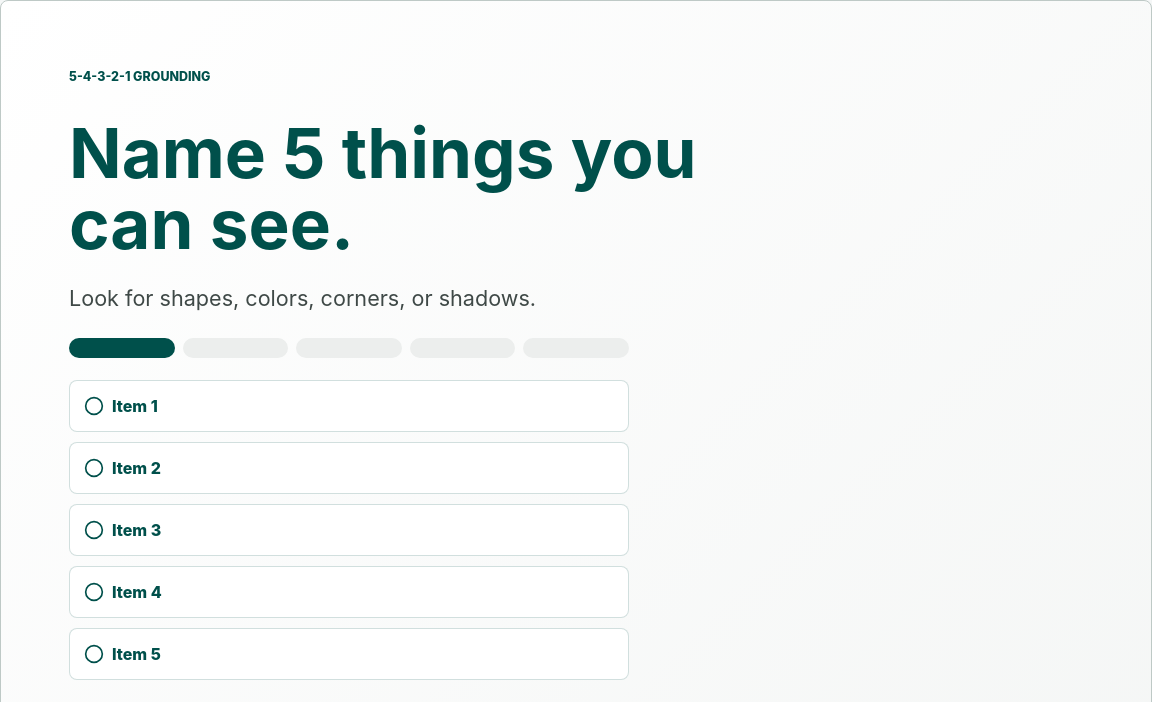
Test: GroundingTool › advances only after the current grounding step is complete
The image size is (1152, 702).
Expected: the heading "Name 5 things you can see." is shown, x1=69 y1=111 x2=696 y2=266
Step 1. Click the button "Item 1" → (131, 406), box x1=69 y1=380 x2=629 y2=432
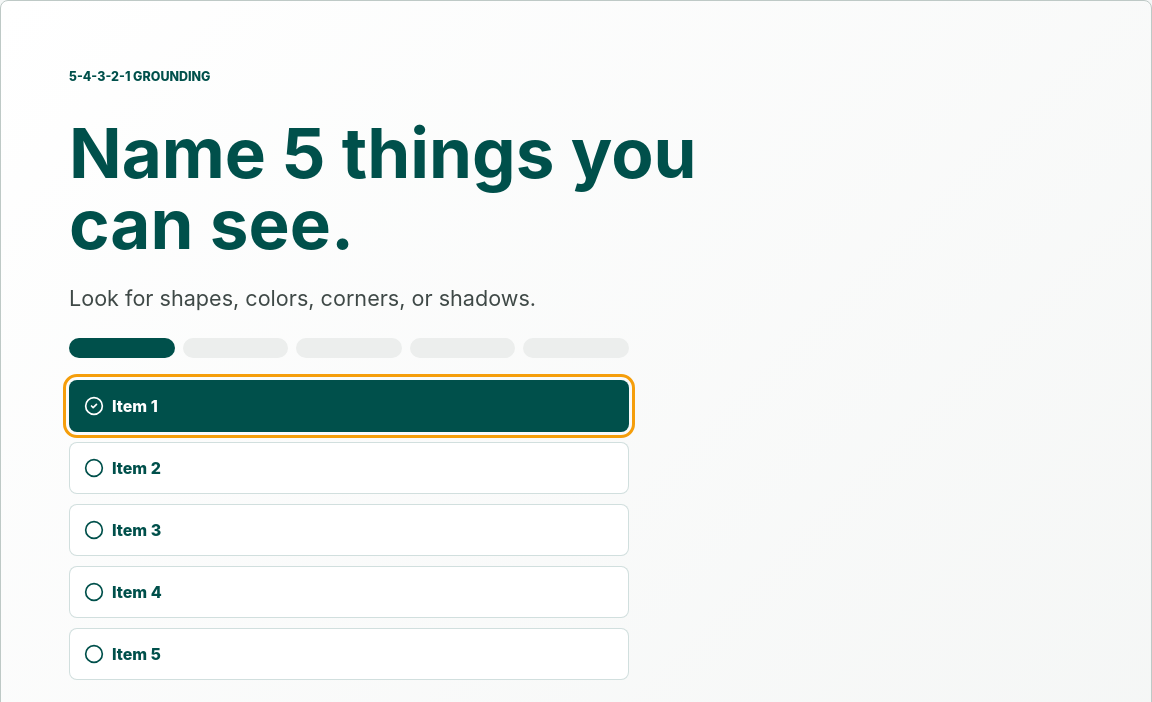
Expected: the heading "Name 5 things you can see." is shown, x1=69 y1=111 x2=696 y2=266
Step 2. Click the button "Item 2" → (131, 468), box x1=69 y1=442 x2=629 y2=494
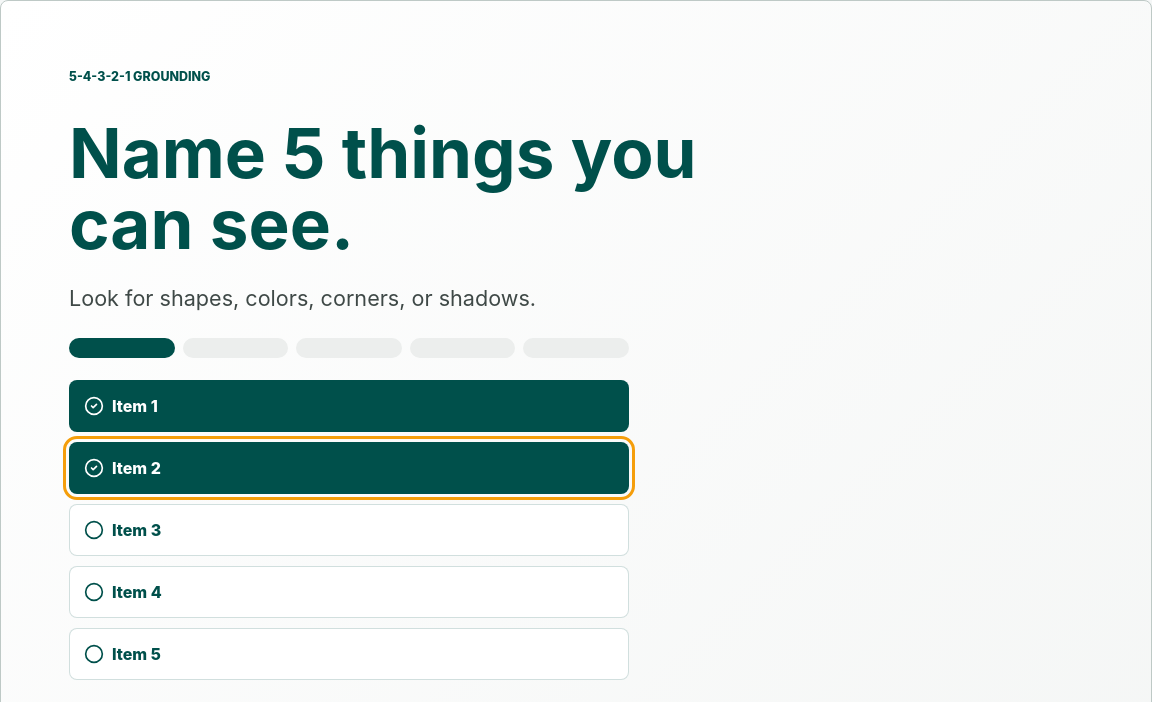
Step 3. Click the button "Item 3" → (131, 530), box x1=69 y1=504 x2=629 y2=556
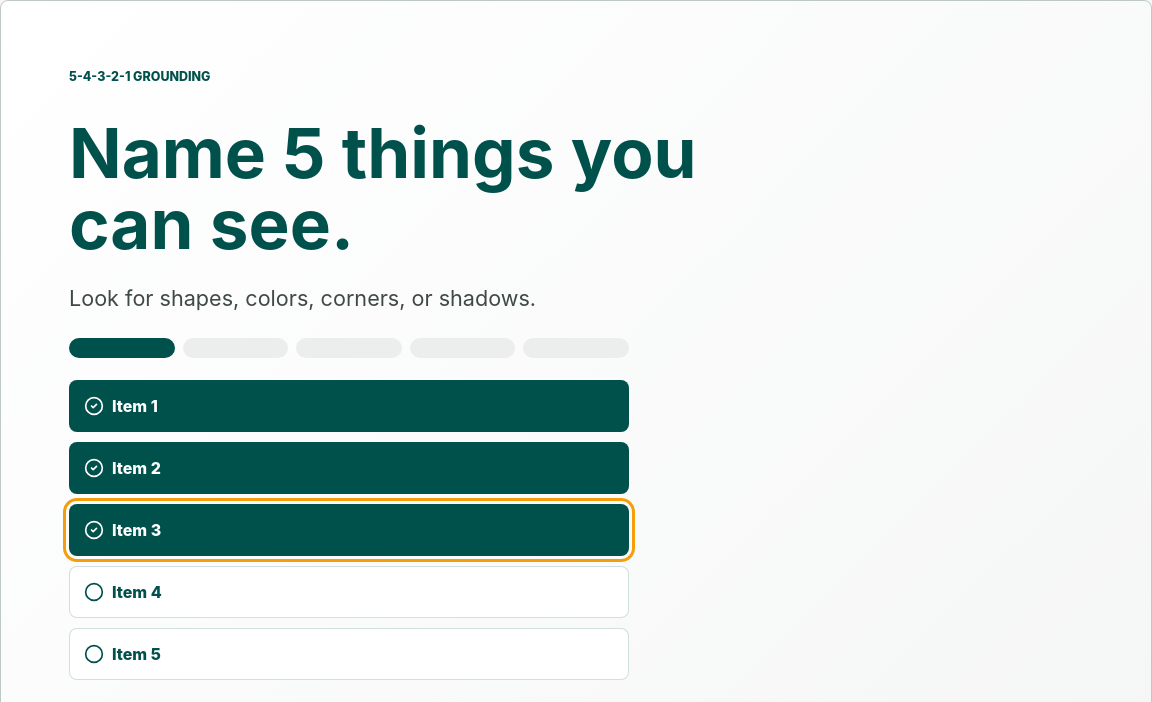
Step 4. Click the button "Item 4" → (131, 592), box x1=69 y1=566 x2=629 y2=618
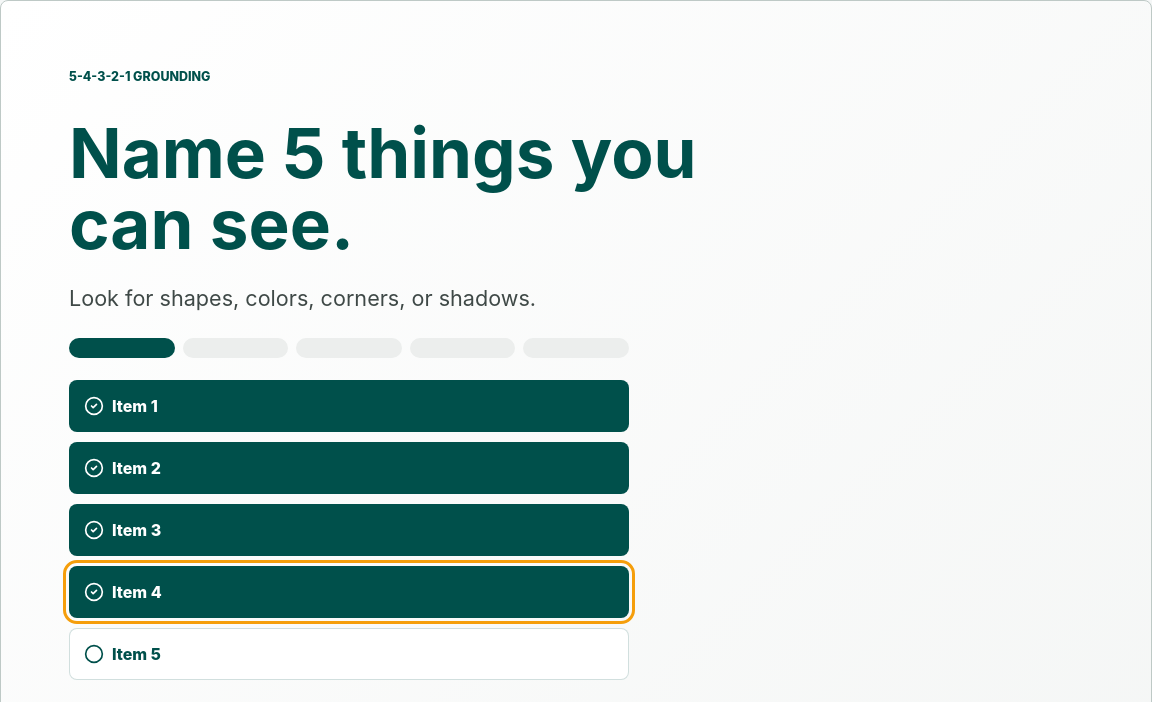
Step 5. Click the button "Item 5" → (131, 654), box x1=69 y1=628 x2=629 y2=680
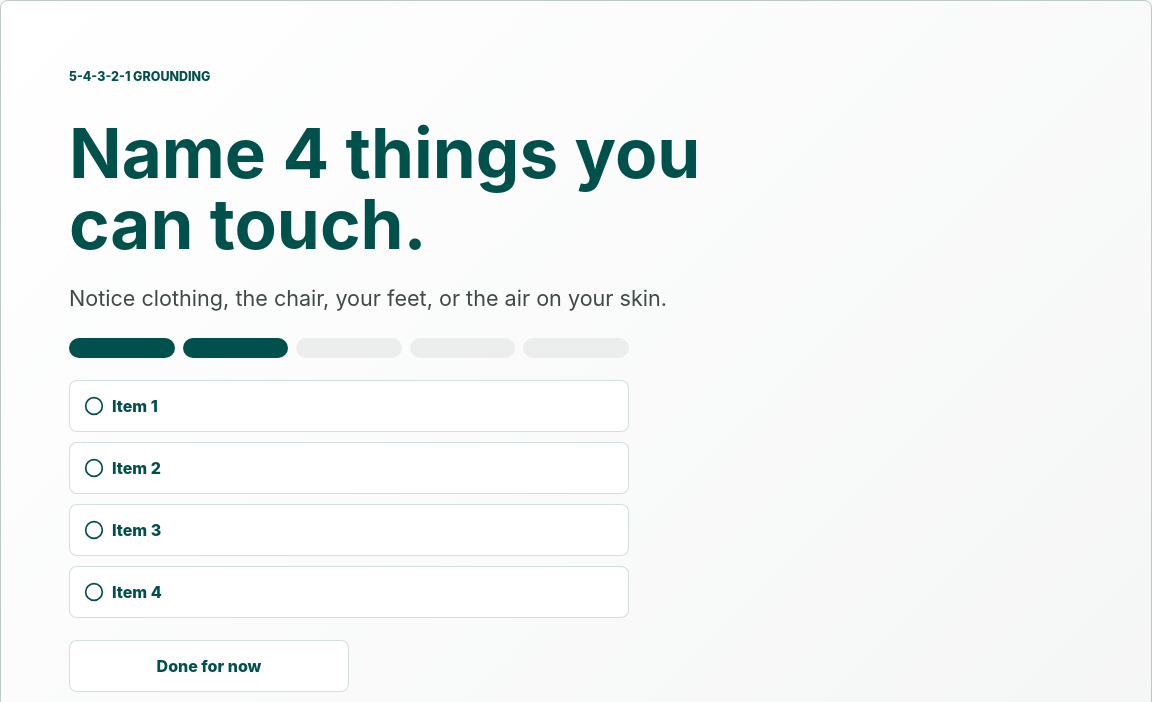
Now the heading "Name 4 things you can touch." is shown, box x1=69 y1=111 x2=700 y2=266
